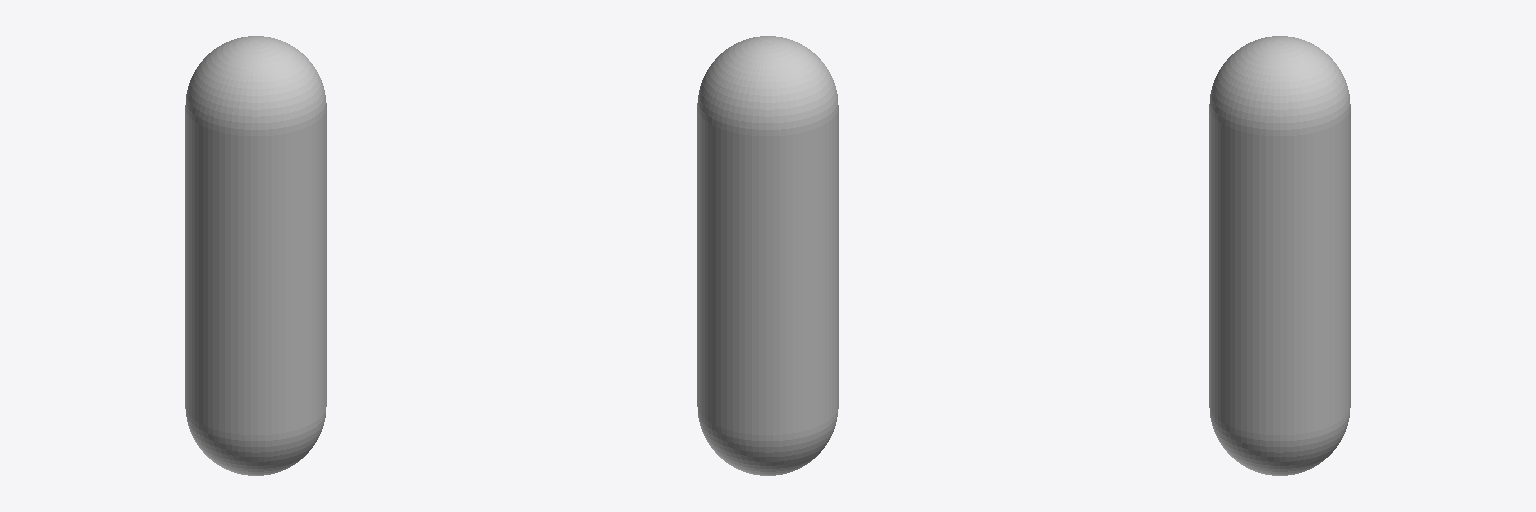
3 views of the same model, side by side, from view 1: azimuth 30°, elevation 25°; view 2: azimuth 150°, elevation 25°; view 3: azimuth 270°, elevation 25° (orthographic).
Parts seen in each view (by area): view 1: 柱体_柱体.001; view 2: 柱体_柱体.001; view 3: 柱体_柱体.001.
Part boxes in pixels (bbox=[...]): 柱体_柱体.001: bbox=[185, 36, 326, 475]; 柱体_柱体.001: bbox=[697, 36, 838, 475]; 柱体_柱体.001: bbox=[1209, 36, 1350, 475].
Bounding box in the file's own units: 0.6 × 2 × 0.6.